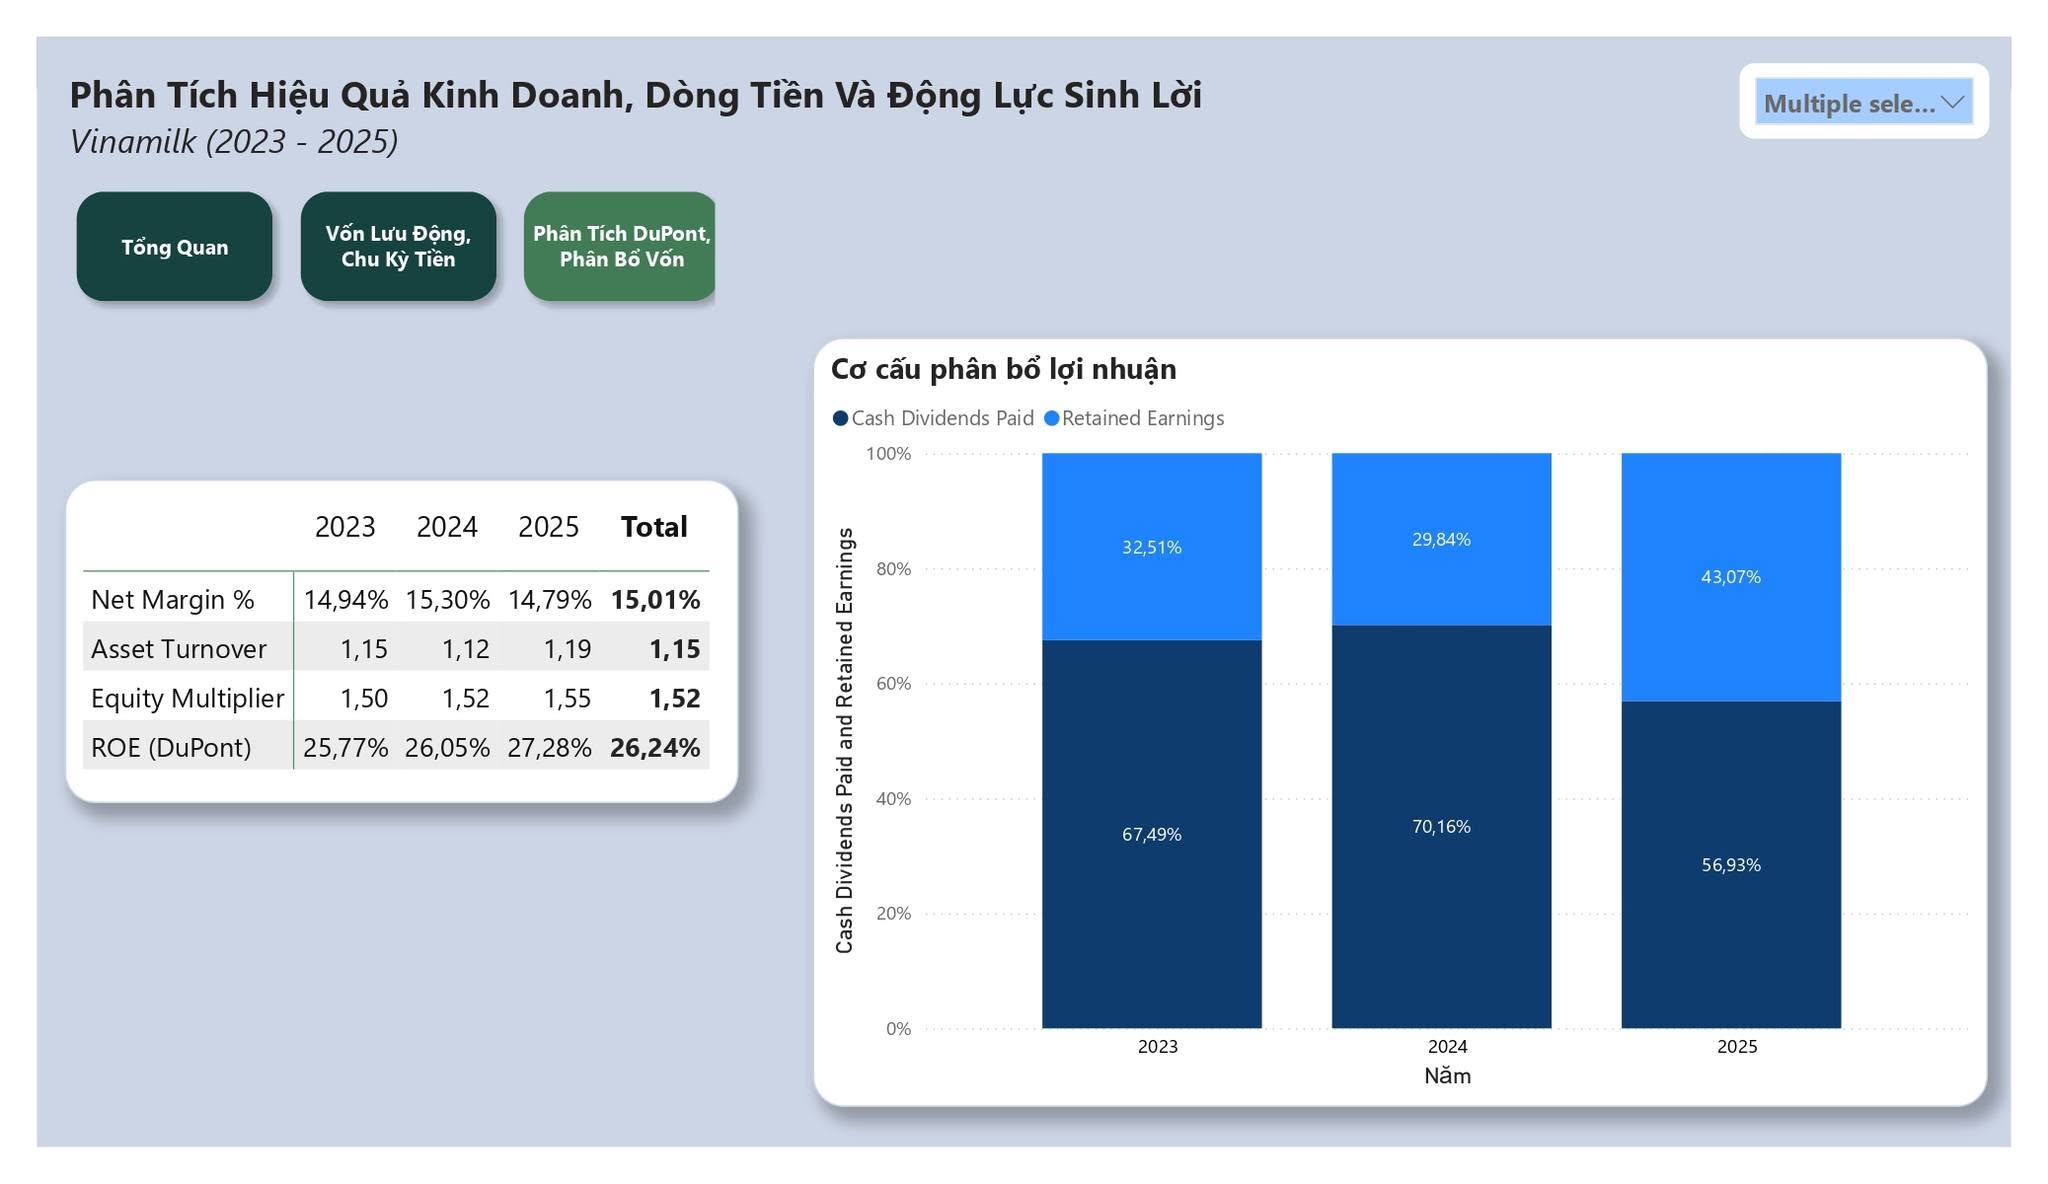

Layout of this report page (visuals, bound fields, positions):
{"tool":"powerbi","page":{"name":"Phân Tích DuPont, Phân Bổ Vốn","canvas":[1280,720],"ordinal":2},"visuals":[{"type":"shape","box":[1104.3,16.7,161.5,49],"z":0,"group":"g1"},{"type":"pageNavigator","box":[17.1,91.4,422.9,88.6],"z":0},{"type":"textbox","box":[16.2,15,840,85],"z":1000},{"type":"slicer","fields":{"Values":["FinancialVinamilkData.Năm"]},"box":[1104.4,15.7,161.5,53.8],"z":1000,"group":"g1"},{"type":"pivotTable","title":"Động lực sinh lời DuPont","fields":{"Values":["Measures (2).Net Margin %","Measures (2).Asset Turnover","Measures (2).Equity Multiplier","Measures (2).ROE (DuPont)"],"Columns":["FinancialVinamilkData.Năm"]},"box":[18.3,286.7,436.7,210],"z":2000},{"type":"group","id":"g1","title":"Group 1","box":[1104.3,15.7,161.4,52.9],"z":3000},{"type":"hundredPercentStackedColumnChart","title":"Cơ cấu phân bổ lợi nhuận","fields":{"Category":["FinancialVinamilkData.Năm"],"Y":["Measures (2).Cash Dividends Paid","Measures (2).Retained Earnings"]},"box":[502.5,195,762.5,498.8],"z":4000}]}

Visuals, with their boxes in screenshot pixels (x1, y1, x2, y2), scaled from the page's 1280x720 canvas onto the 2048x1184 screenshot:
shape: select_region(1767, 27, 2025, 108)
pageNavigator: select_region(27, 150, 704, 296)
textbox: select_region(26, 25, 1370, 164)
slicer - FinancialVinamilkData.Năm: select_region(1767, 26, 2025, 114)
"Động lực sinh lời DuPont" pivotTable: select_region(29, 471, 728, 817)
"Group 1" group: select_region(1767, 26, 2025, 113)
"Cơ cấu phân bổ lợi nhuận" hundredPercentStackedColumnChart: select_region(804, 321, 2024, 1141)
